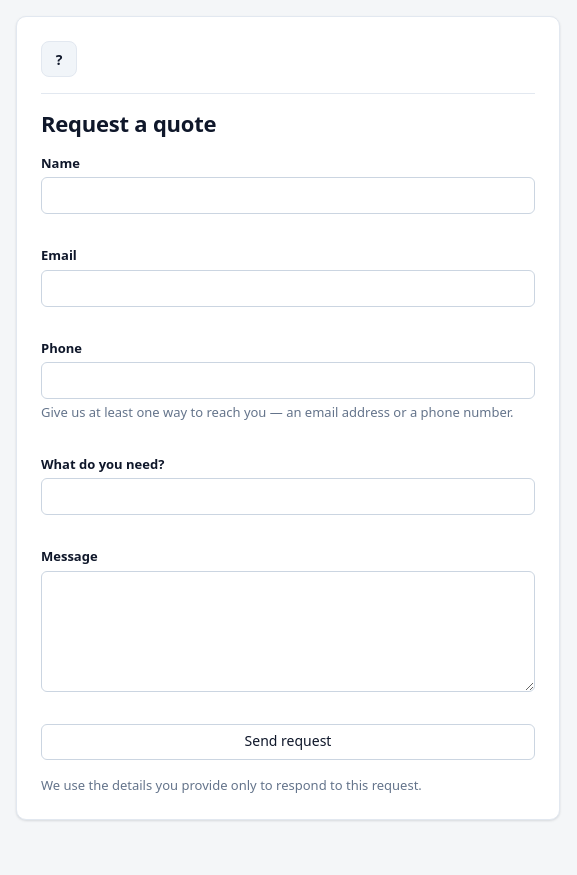
Test: reports a duplicate submission distinctly
Expected: the heading "Request a quote" is shown, [41, 108, 216, 138]
Type "+15550100001" into the field labelled "Phone" at (288, 380), box [41, 362, 535, 399]
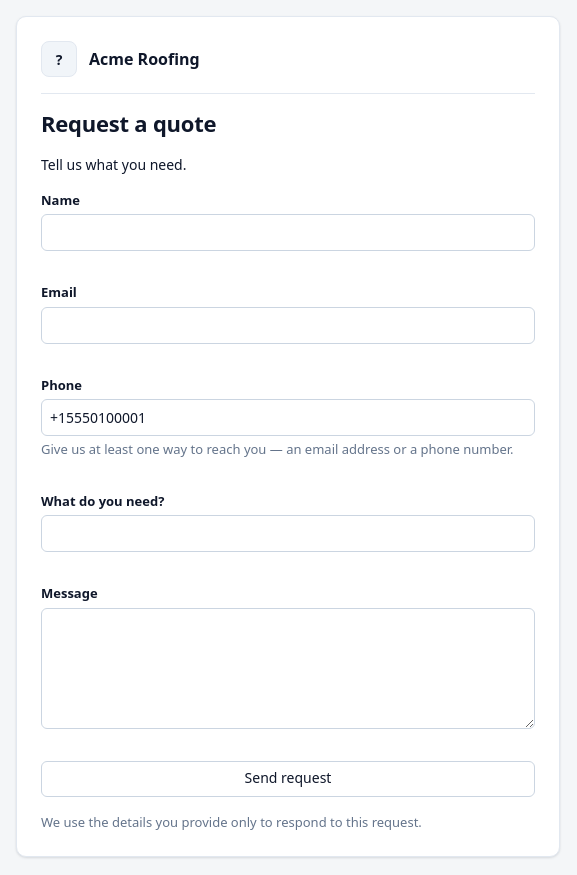
Type "Same request again" into the text box labelled "Message" at (288, 668), box [41, 608, 535, 728]
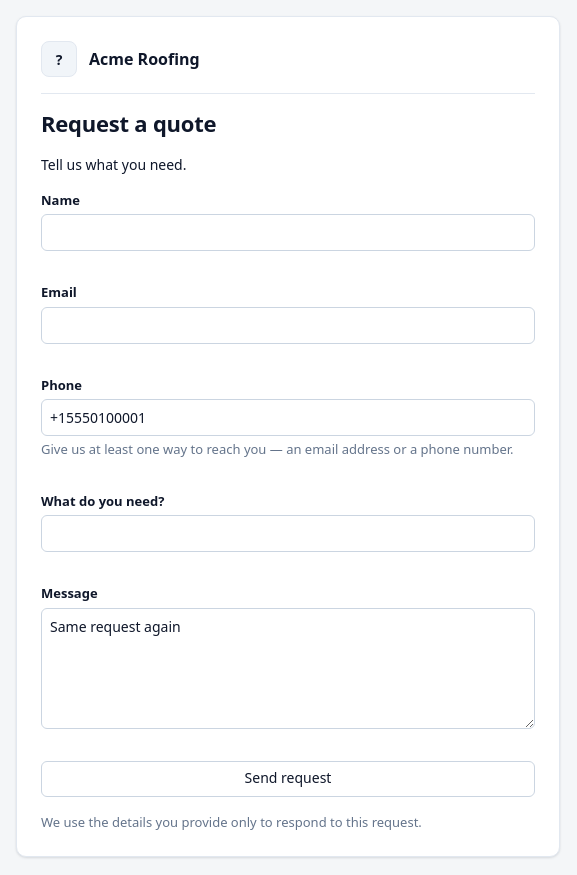
Click the button "Send request" at (288, 778), box [41, 760, 535, 796]
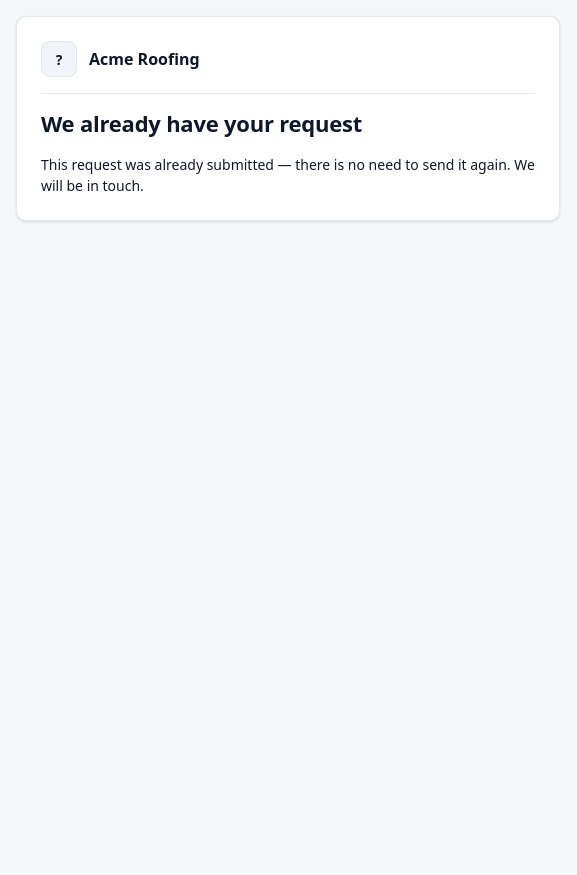
Expected: the heading "We already have your request" is shown, [41, 108, 362, 138]
